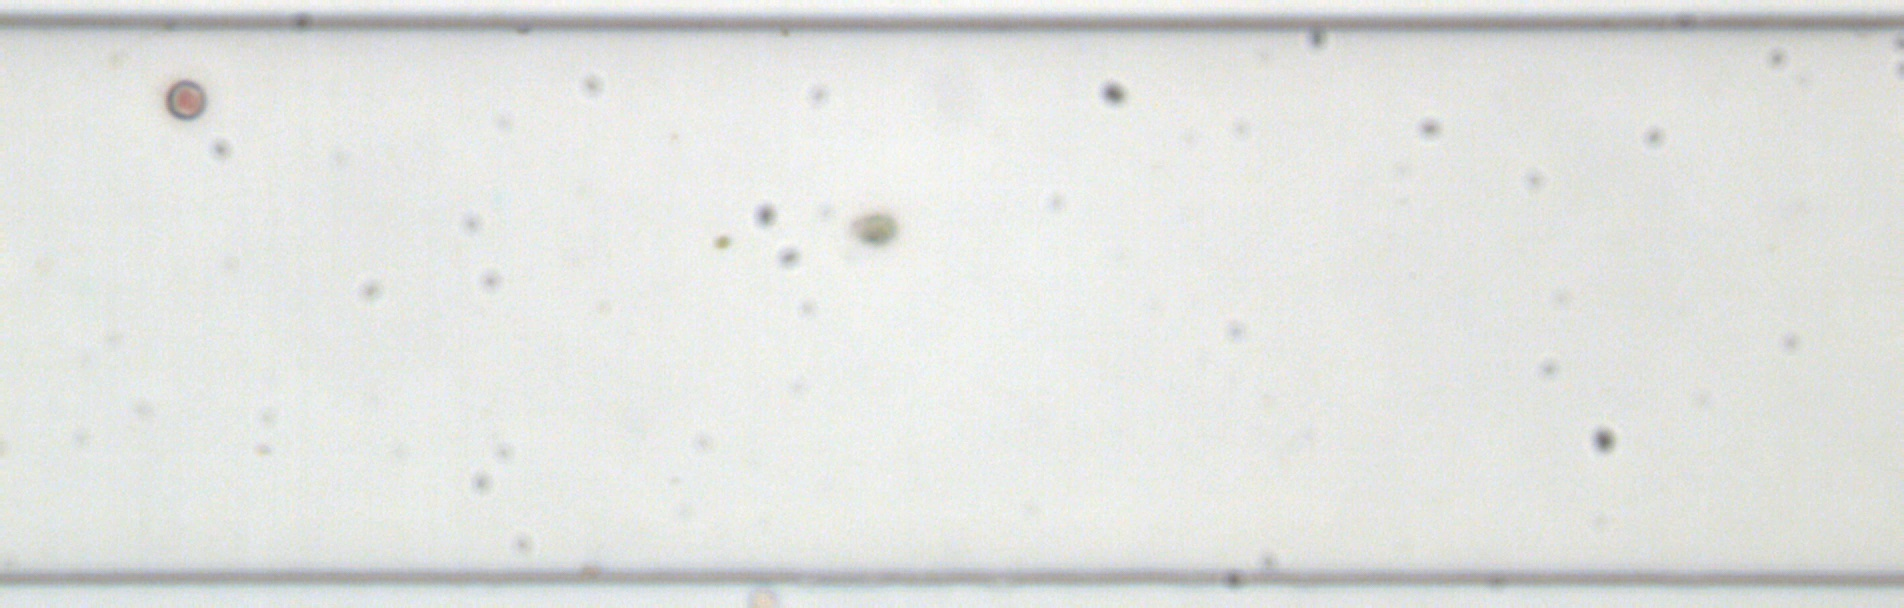Chlorella: (709, 231, 733, 252)
Dunaliella salina: (846, 209, 903, 248)
Porphyridium: (161, 76, 206, 123)
